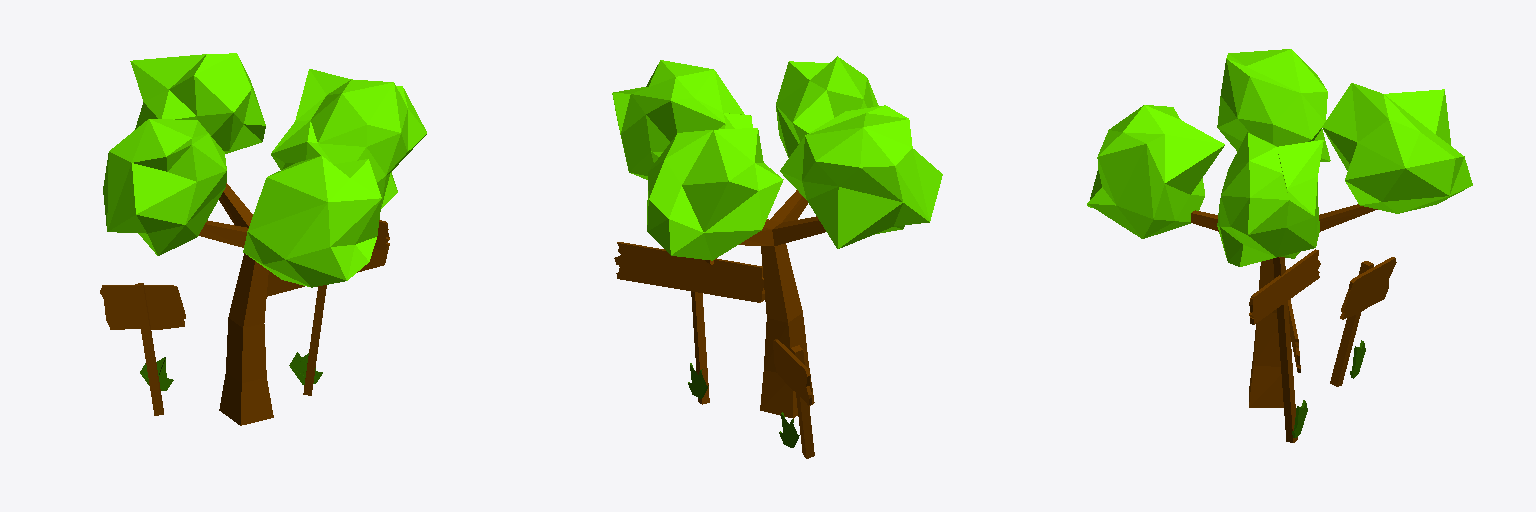
File: TreeBase.obj
The picture shows the model from 3 angles: view 1: azimuth 30°, elevation 25°; view 2: azimuth 150°, elevation 25°; view 3: azimuth 270°, elevation 25°; orthographic projection.
Parts seen in each view (by area): view 1: Null.1; view 2: Null.1; view 3: Null.1.
Boxes of the visible parts, x1,y1,x2,y2 form: Null.1: [100, 53, 426, 425]; Null.1: [612, 56, 942, 458]; Null.1: [1087, 49, 1472, 442].
Bounding box in the file's own units: 833 × 837 × 896.